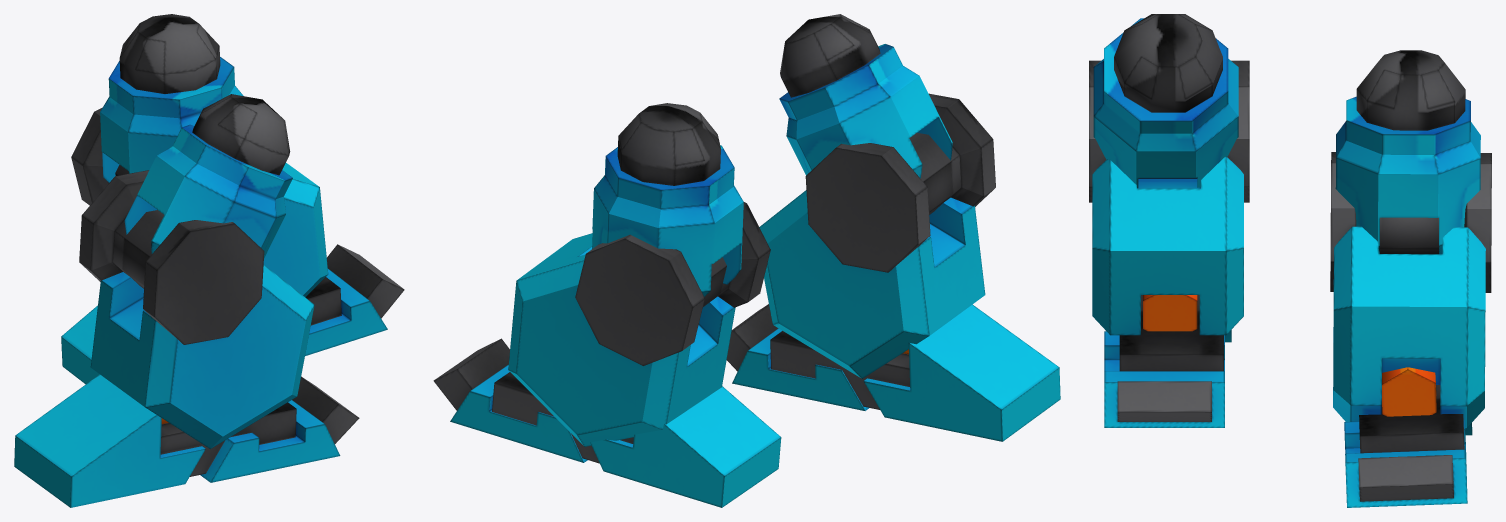
Rendered from Bottom_Idle28.obj.
3 renders of one model, left to right at view 1: azimuth 30°, elevation 25°; view 2: azimuth 150°, elevation 25°; view 3: azimuth 270°, elevation 25°, orthographic. The views are drawn at different scales.
Visible parts, largest first — view 1: Object013, Object014, Object012, Object009, Object011, Object010; view 2: Object013, Object010, Object014, Object011, Object009, Object012; view 3: Object010, Object013, Object009, Object012, Object014, Object011.
Boxes of the visible parts, box(x1,y1,x2,y2) form: Object013: box(79, 170, 314, 448); Object014: box(14, 374, 359, 507); Object012: box(124, 94, 292, 258); Object009: box(100, 14, 243, 182); Object011: box(61, 244, 404, 384); Object010: box(71, 107, 328, 297); Object013: box(759, 93, 995, 378); Object010: box(508, 202, 770, 446); Object014: box(726, 304, 1060, 441); Object011: box(433, 338, 781, 507); Object009: box(592, 103, 743, 296); Object012: box(779, 14, 952, 178); Object010: box(1330, 152, 1491, 428); Object013: box(1089, 60, 1249, 335); Object009: box(1335, 50, 1480, 254); Object012: box(1093, 14, 1238, 187); Object014: box(1104, 295, 1231, 427); Object011: box(1344, 367, 1472, 507).
Bounding box in the file's own units: 130 × 101 × 94.65.
